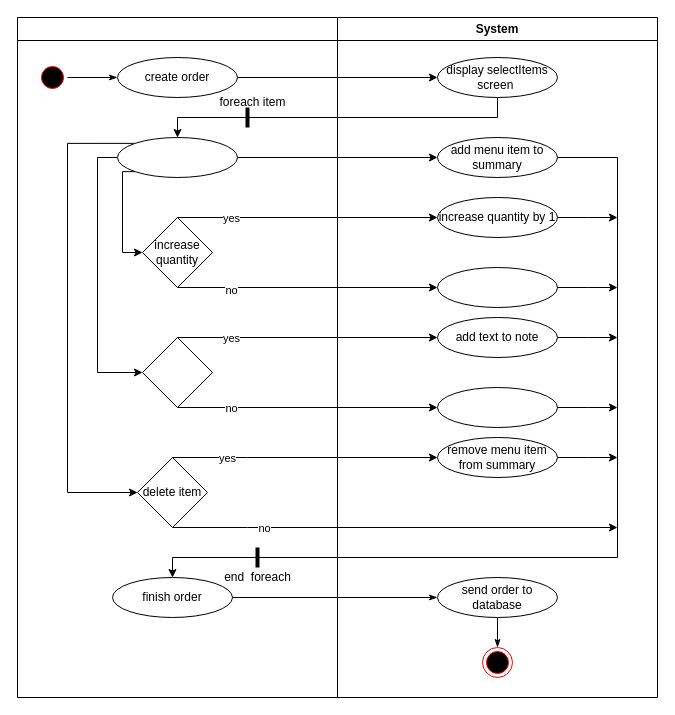
This 675x715 diagram has some shape labels left out. The box of each missing label's shape, as (x1, y1, x2, y2) in pixels:
add menu item: (116, 136, 238, 178)
add note: (142, 336, 212, 408)
Cashier: (16, 16, 338, 698)
decrease quantity by 1: (436, 266, 558, 308)
enter empty note: (436, 386, 558, 428)
